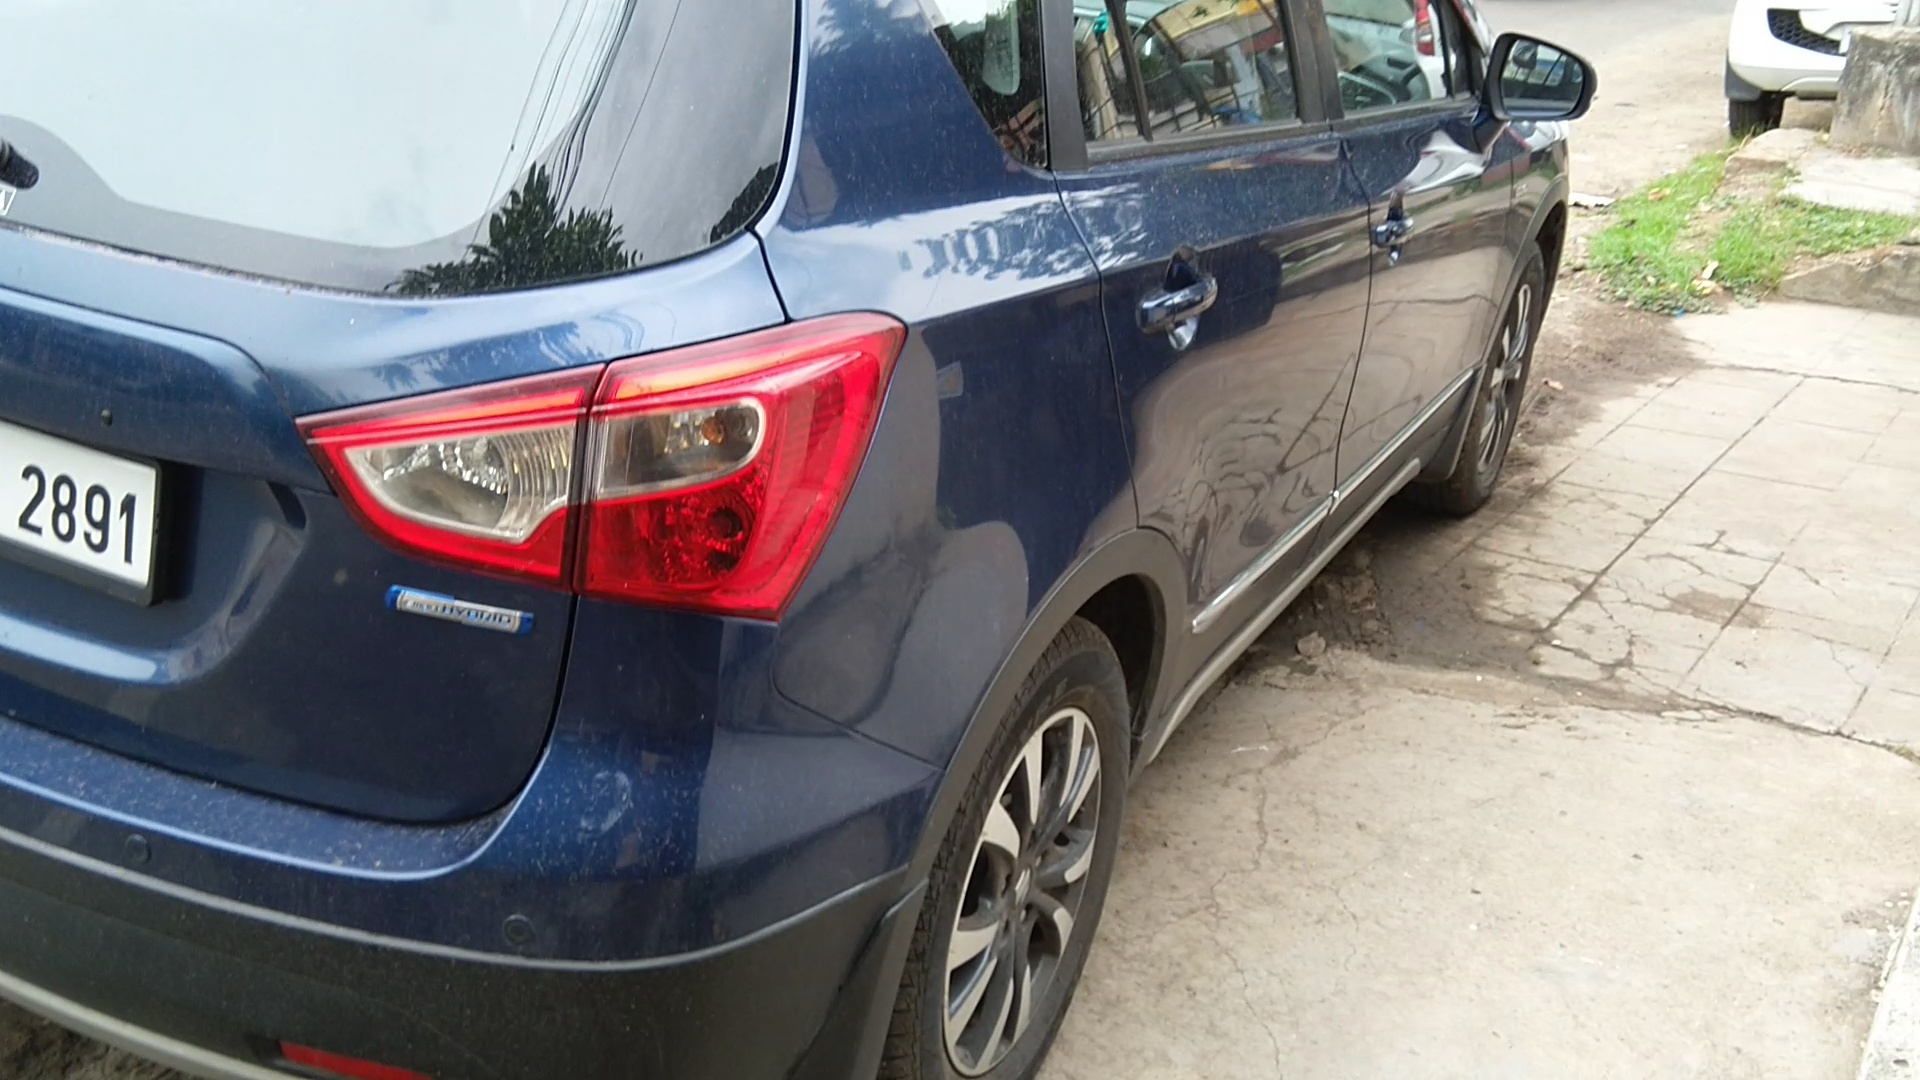alloy_wheel: (886, 642, 1145, 1080)
shvs: (364, 562, 551, 662)
